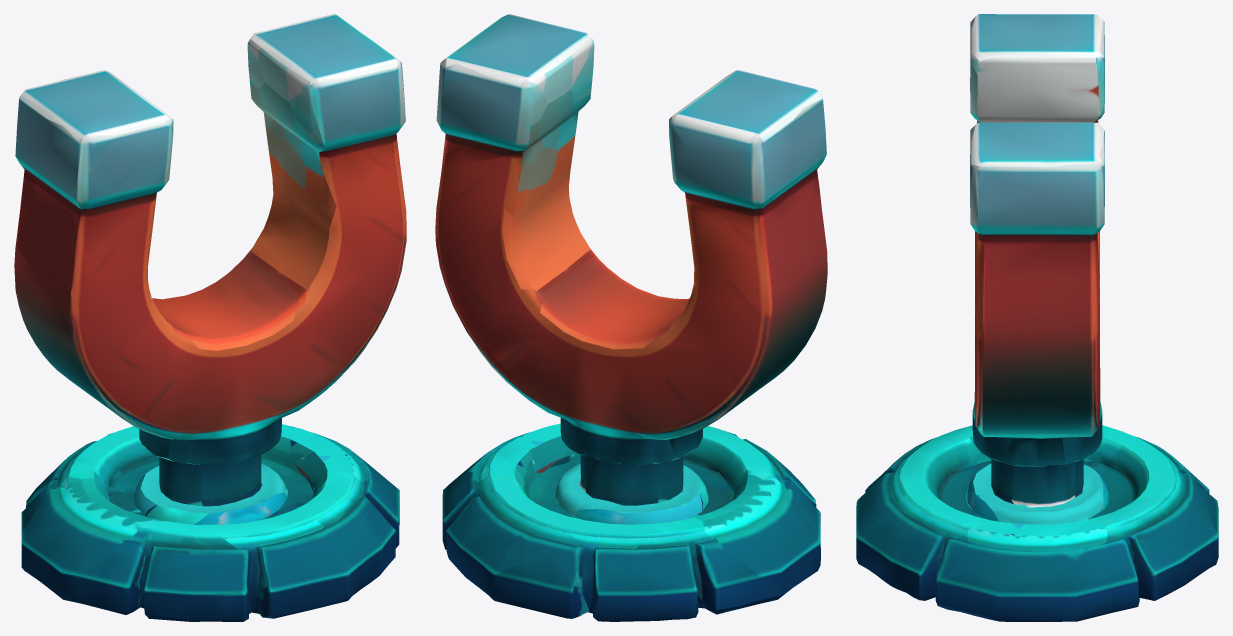
The model's file is powerupmagnet.fbx.
3 views of the same model, side by side, from view 1: azimuth 30°, elevation 25°; view 2: azimuth 150°, elevation 25°; view 3: azimuth 270°, elevation 25° (orthographic). The views are drawn at different scales.
Visible parts, largest first — view 1: tmp30ciuovn.ply; view 2: tmp30ciuovn.ply; view 3: tmp30ciuovn.ply.
Boxes of the visible parts, left/top/right/bottom form: tmp30ciuovn.ply: left=14, top=14, right=406, bottom=621; tmp30ciuovn.ply: left=435, top=14, right=827, bottom=621; tmp30ciuovn.ply: left=856, top=14, right=1218, bottom=621.
Bounding box in the file's own units: 150 × 199 × 143.
1 material, 1 textured.
